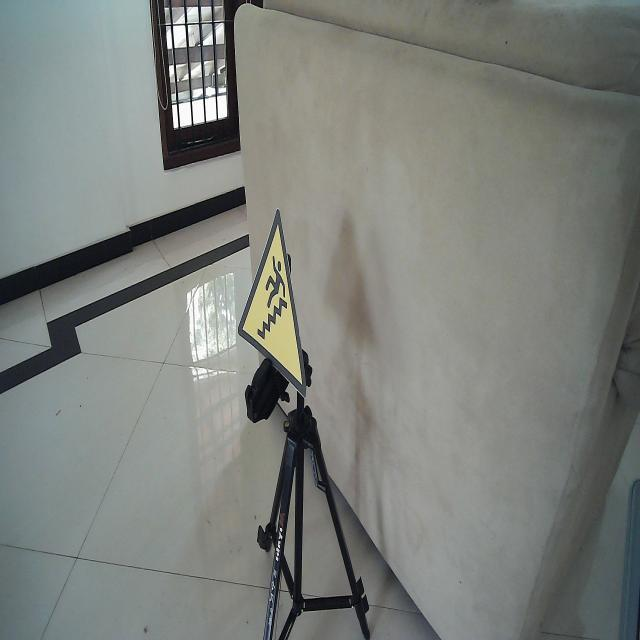stairs: (236, 206, 308, 400)
